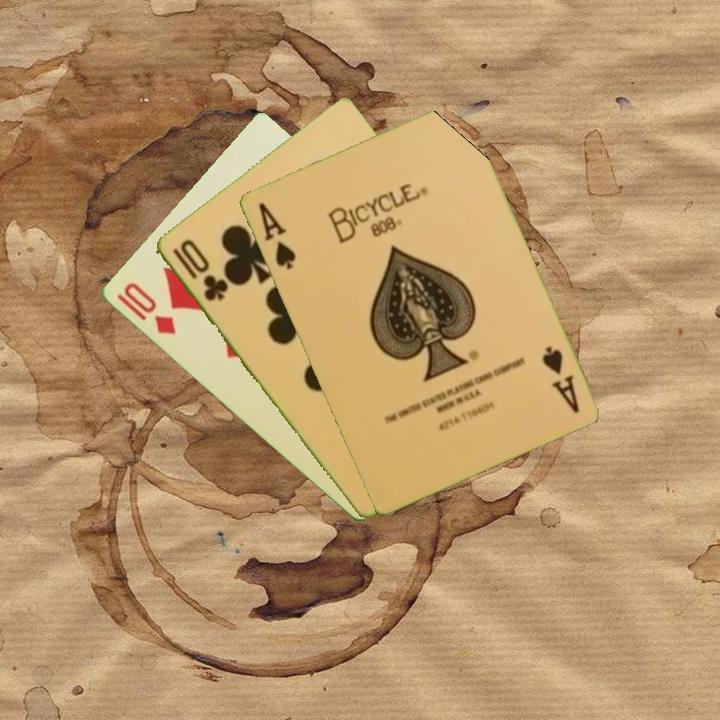10c: (168, 235, 231, 304)
10d: (119, 278, 178, 338)
As: (537, 342, 582, 416), (254, 198, 298, 272)
